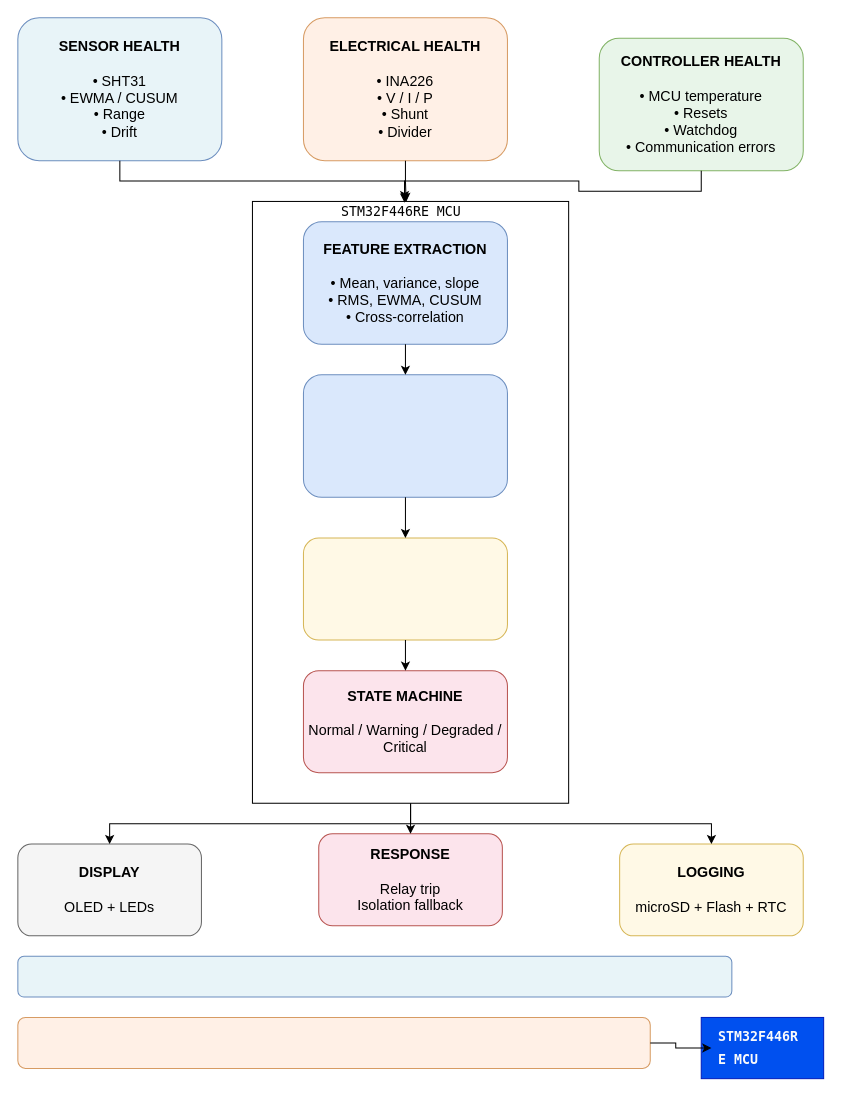
The diagram is 842 pixels wide and 1105 high, and some of its shapes have lost their labels. Each missing label, with the box of its shape:
COMMUNICATION RS485 (Modbus RTU) for fleet aggregation: (17, 955, 732, 997)
EXTERNAL WATCHDOG TPS3813 resets MCU if firmware hangs: (17, 1016, 650, 1068)
HEALTH FUSION • Weighted fusion • Confidence: 0–100%: (302, 537, 507, 640)
TINYML INFERENCE • Autoencoder + Random Forest • int8 quantized • TFLite Micro: (302, 374, 507, 497)
